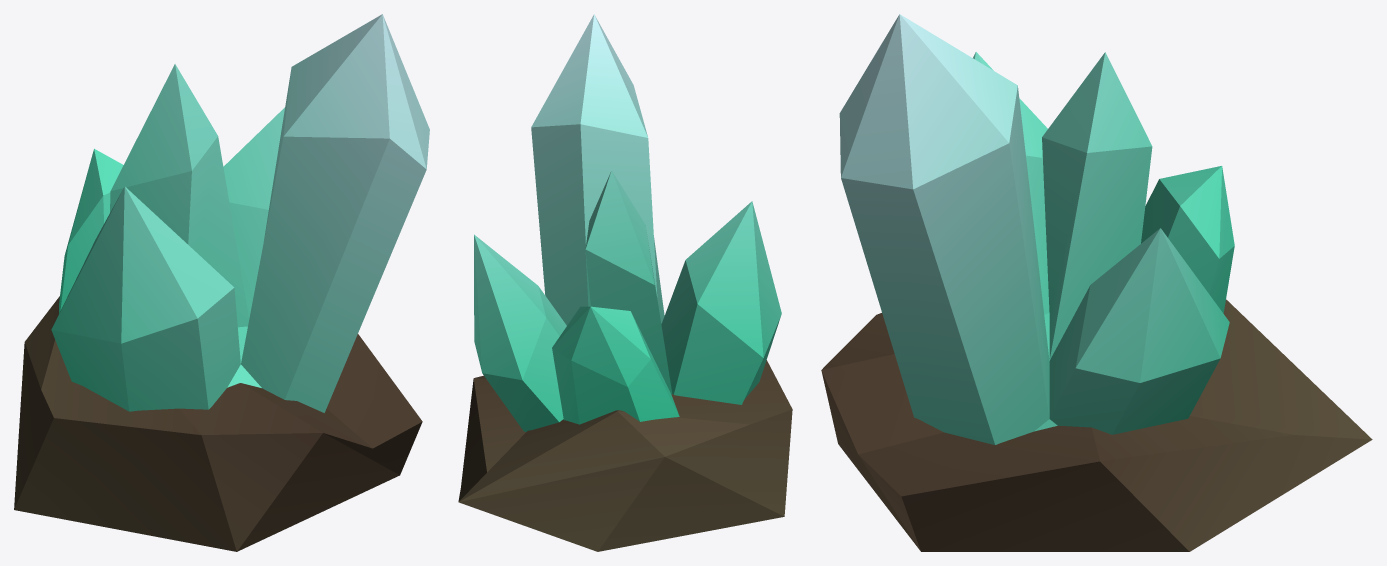
The model's file is Alamite.fbx.
The picture shows the model from 3 angles, left to right: view 1: azimuth 30°, elevation 25°; view 2: azimuth 150°, elevation 25°; view 3: azimuth 270°, elevation 25°; orthographic projection. The views are drawn at different scales.
Parts seen in each view (by area): view 1: ALAMITE GEM.001; view 2: ALAMITE GEM.001; view 3: ALAMITE GEM.001.
Boxes of the visible parts, bbox=[...] form: ALAMITE GEM.001: bbox=[14, 14, 429, 551]; ALAMITE GEM.001: bbox=[458, 14, 792, 551]; ALAMITE GEM.001: bbox=[821, 14, 1372, 551].
Size of the model in its own units: 163 by 211 by 201.
Materials: 2 (2 with a texture image).
